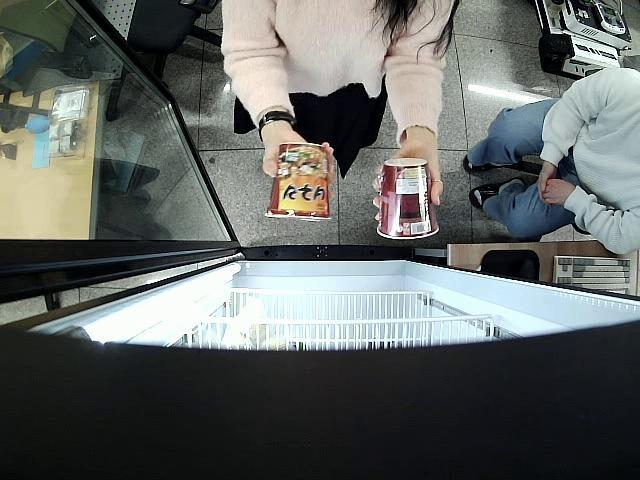06_nuguri_S: (373, 157, 440, 240), (266, 142, 332, 222)
